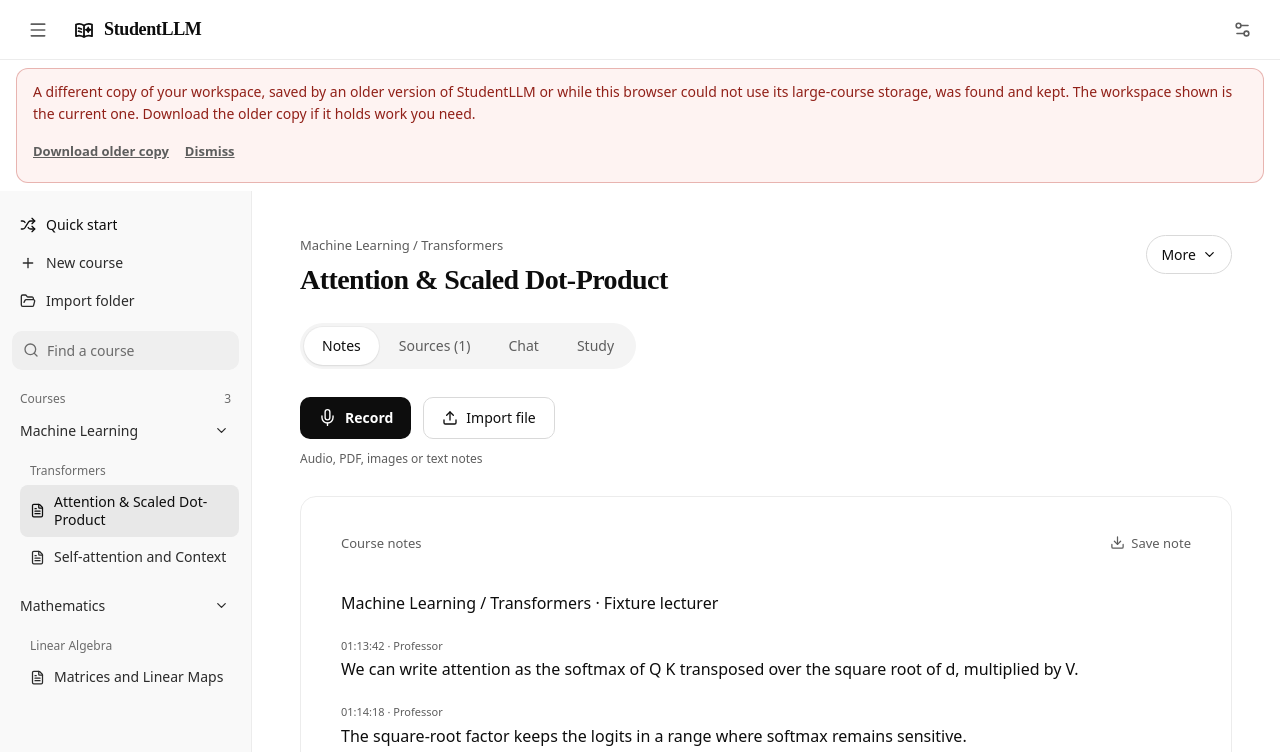
Test: unrecovered recordings in Settings › keeps the manifest and the audio, lists the recording in Settings, and removes it on request
What coordinates should you click on to do the following:
click the button named "Settings"
I would click on:
 (1242, 30)
Its box is [1222, 10, 1262, 50].
(page scrolled)
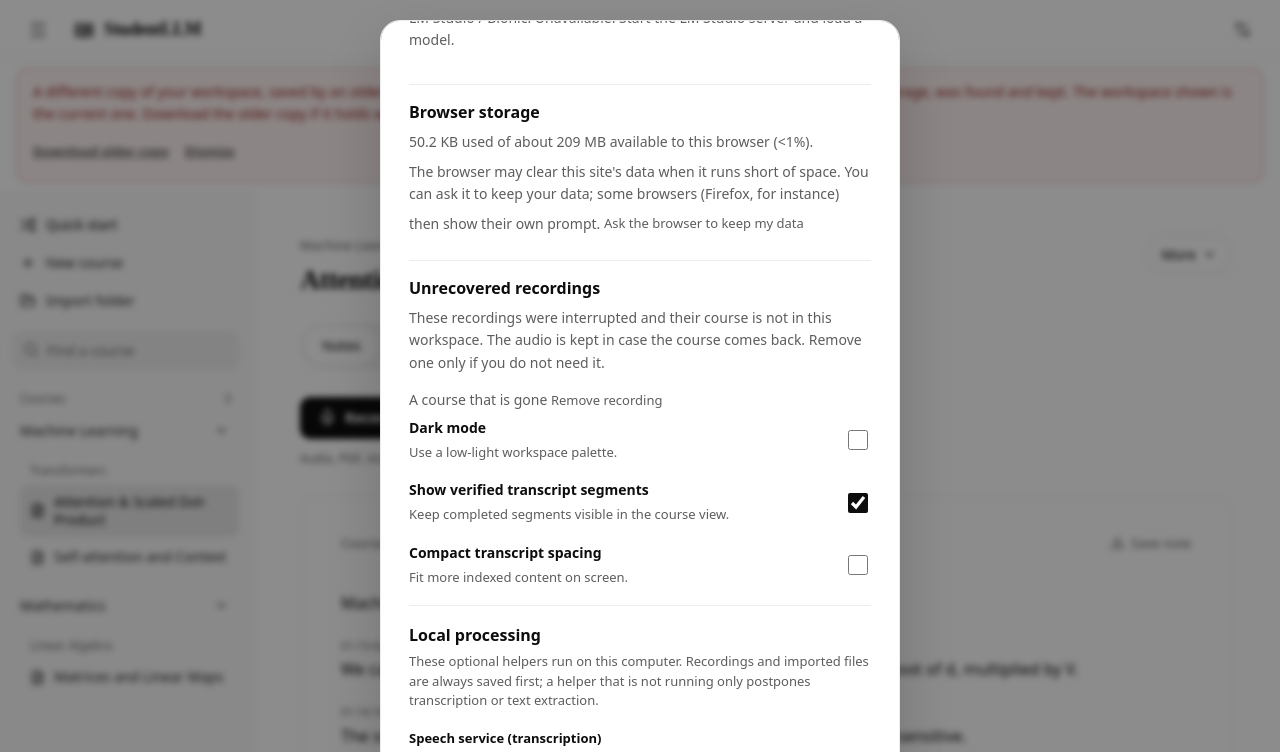
Check: the element "Unrecovered recordings" shows "A course that is gone", box [409, 390, 547, 408]
What coordinates should you click on to do the following:
click the button "Remove recording"
I would click on:
 (607, 400)
Its box is [551, 382, 662, 418].
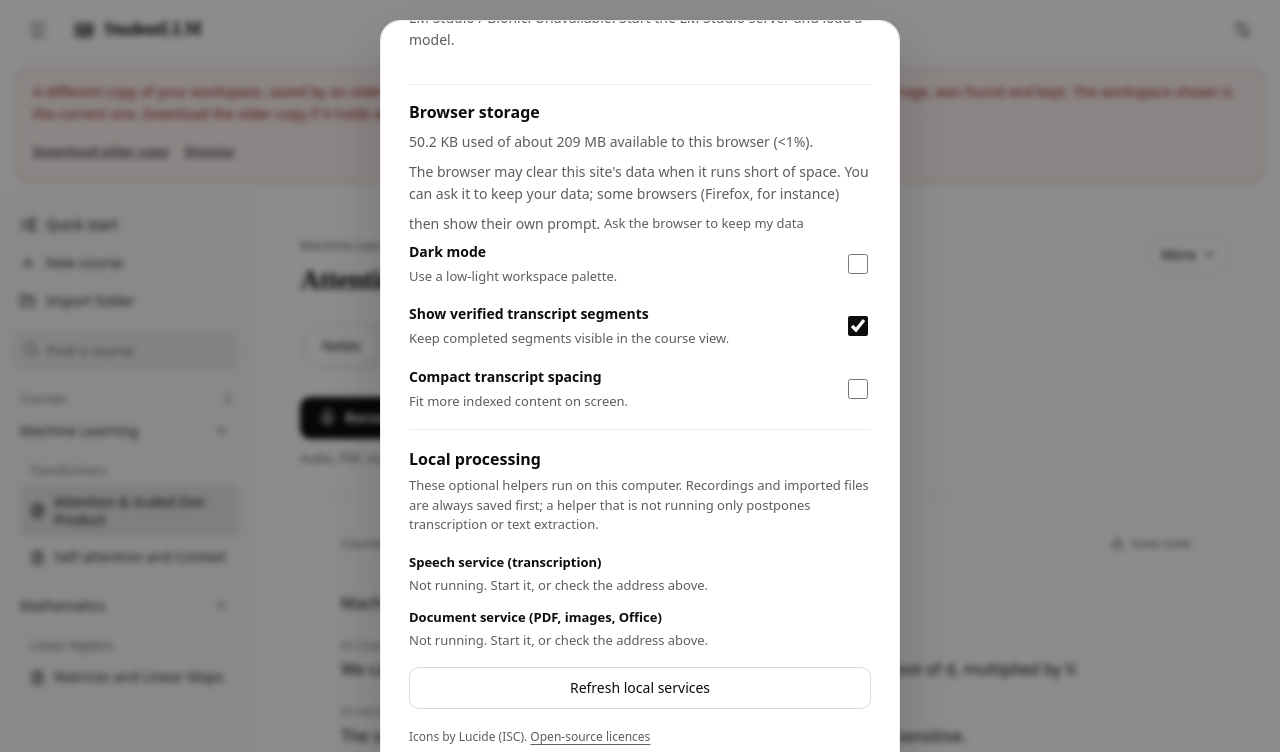
Check: the text "Unrecovered recordings" is gone
